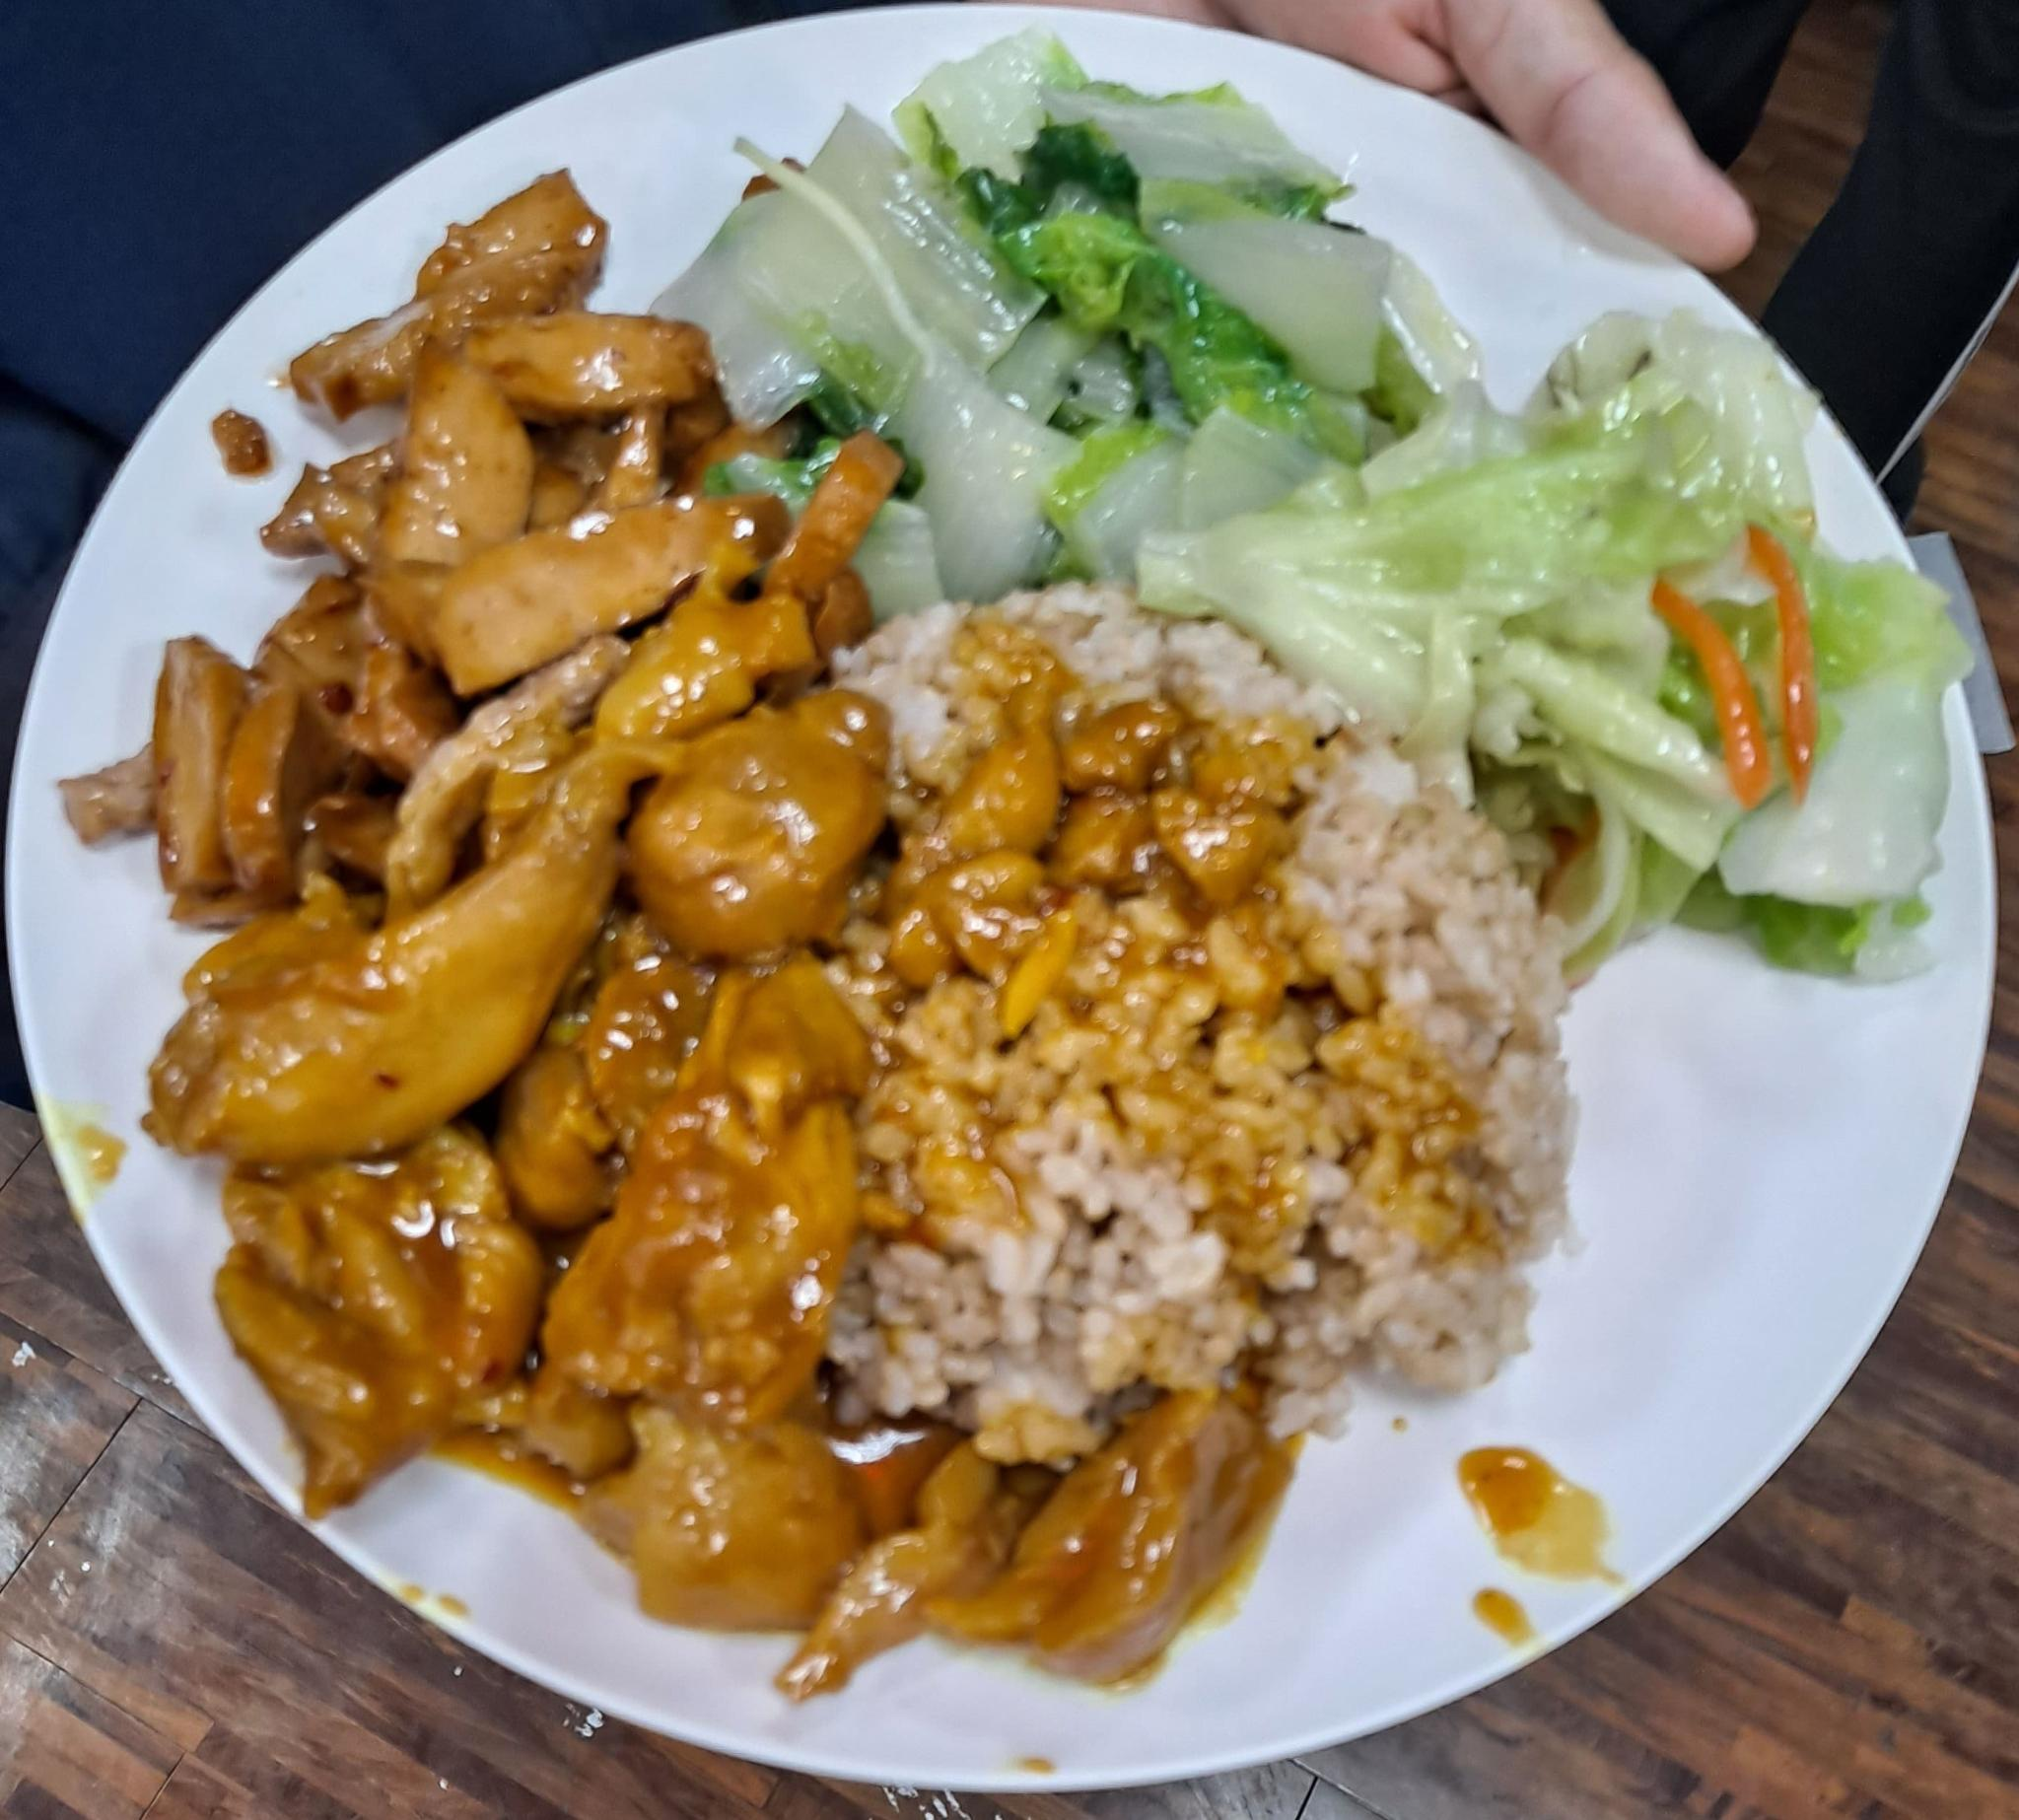big fried chicken leg: (0, 1, 2019, 1800)
box: (846, 594, 1571, 1416)
braised fish fillet: (101, 152, 877, 925), (1219, 335, 1983, 982), (694, 54, 1431, 601)
braised pork: (160, 662, 1246, 1682)
